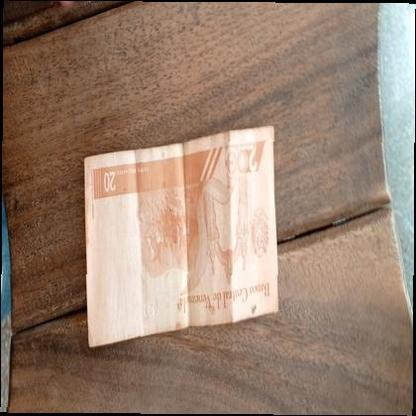twenty-back-vef: (84, 125, 280, 348)
